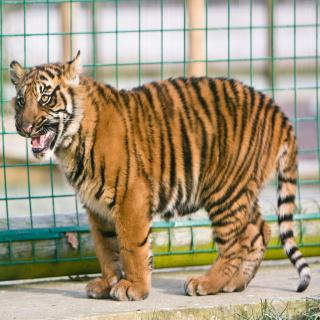Tiger: (2, 50, 310, 302)
